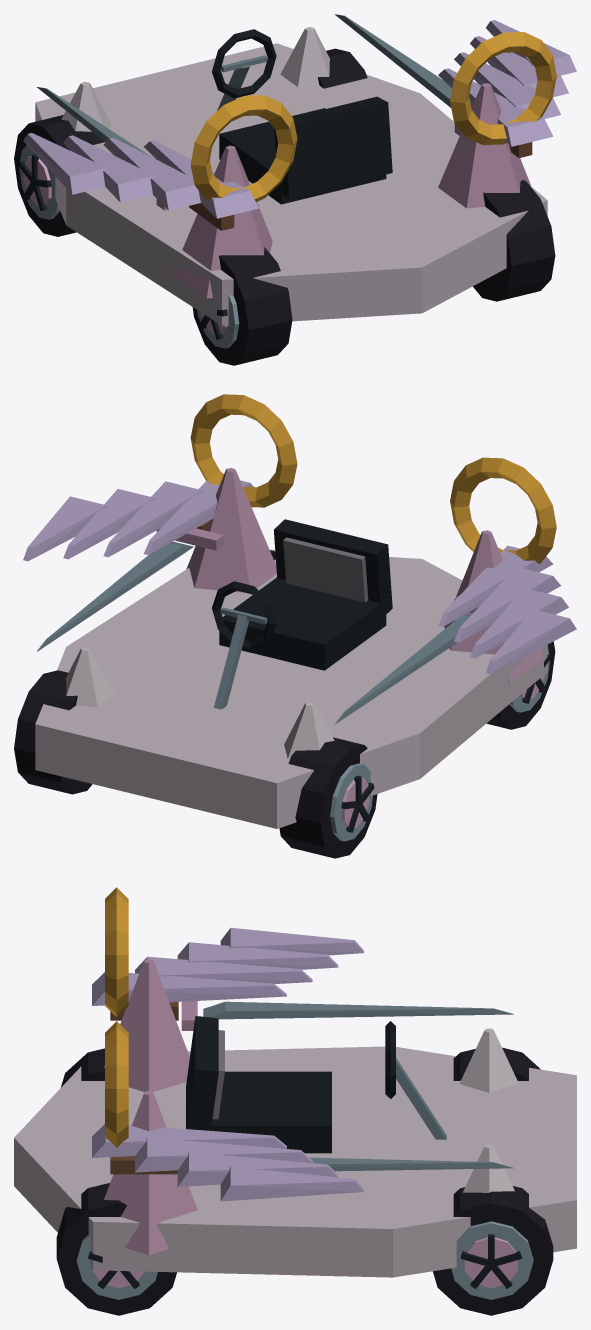
The model's file is kart.glb.
The picture shows the model from 3 angles, top to bottom: view 1: azimuth 30°, elevation 25°; view 2: azimuth 150°, elevation 25°; view 3: azimuth 270°, elevation 25°; orthographic projection. The views are drawn at different scales.
Visible parts, largest first — view 1: identity-crystal-crystal-faceted-platform, identity-crystal-motif-wings-feather, identity-crystal-driver-cockpit, identity-crystal-motif-ring, wheel-rear-left, wheel-rear-right, wheel-front-left, identity-crystal-motif-swords, wheel-front-right; view 2: identity-crystal-crystal-faceted-platform, identity-crystal-driver-cockpit, identity-crystal-motif-wings-feather, identity-crystal-motif-ring, wheel-front-left, identity-crystal-motif-swords, wheel-front-right, wheel-rear-left; view 3: identity-crystal-crystal-faceted-platform, identity-crystal-motif-wings-feather, identity-crystal-driver-cockpit, wheel-front-right, identity-crystal-motif-swords, wheel-rear-right, identity-crystal-motif-ring, wheel-front-left, wheel-rear-left.
Boxes of the visible parts, x1=… form: identity-crystal-crystal-faceted-platform: x1=35, y1=27, x2=547, y2=325; identity-crystal-motif-wings-feather: x1=23, y1=20, x2=576, y2=218; identity-crystal-driver-cockpit: x1=212, y1=29, x2=392, y2=204; identity-crystal-motif-ring: x1=190, y1=32, x2=556, y2=201; wheel-rear-left: x1=192, y1=247, x2=292, y2=365; wheel-rear-right: x1=473, y1=180, x2=555, y2=301; wheel-front-left: x1=14, y1=115, x2=104, y2=236; identity-crystal-motif-swords: x1=37, y1=14, x2=532, y2=230; wheel-front-right: x1=317, y1=48, x2=367, y2=88; identity-crystal-crystal-faceted-platform: x1=35, y1=468, x2=547, y2=828; identity-crystal-driver-cockpit: x1=212, y1=519, x2=392, y2=709; identity-crystal-motif-wings-feather: x1=23, y1=480, x2=576, y2=674; identity-crystal-motif-ring: x1=190, y1=394, x2=556, y2=563; wheel-front-left: x1=279, y1=737, x2=377, y2=858; identity-crystal-motif-swords: x1=37, y1=521, x2=478, y2=724; wheel-front-right: x1=14, y1=670, x2=92, y2=794; wheel-rear-left: x1=486, y1=641, x2=555, y2=729; identity-crystal-crystal-faceted-platform: x1=14, y1=959, x2=576, y2=1277; identity-crystal-motif-wings-feather: x1=92, y1=927, x2=363, y2=1201; identity-crystal-driver-cockpit: x1=186, y1=1016, x2=446, y2=1153; wheel-front-right: x1=433, y1=1186, x2=553, y2=1315; identity-crystal-motif-swords: x1=110, y1=1001, x2=513, y2=1174; wheel-rear-right: x1=56, y1=1183, x2=176, y2=1315; identity-crystal-motif-ring: x1=105, y1=887, x2=128, y2=1147; wheel-front-left: x1=453, y1=1047, x2=540, y2=1080; wheel-rear-left: x1=61, y1=1048, x2=104, y2=1087.
Size of the model in its own units: 2.88 by 1.42 by 2.63.
